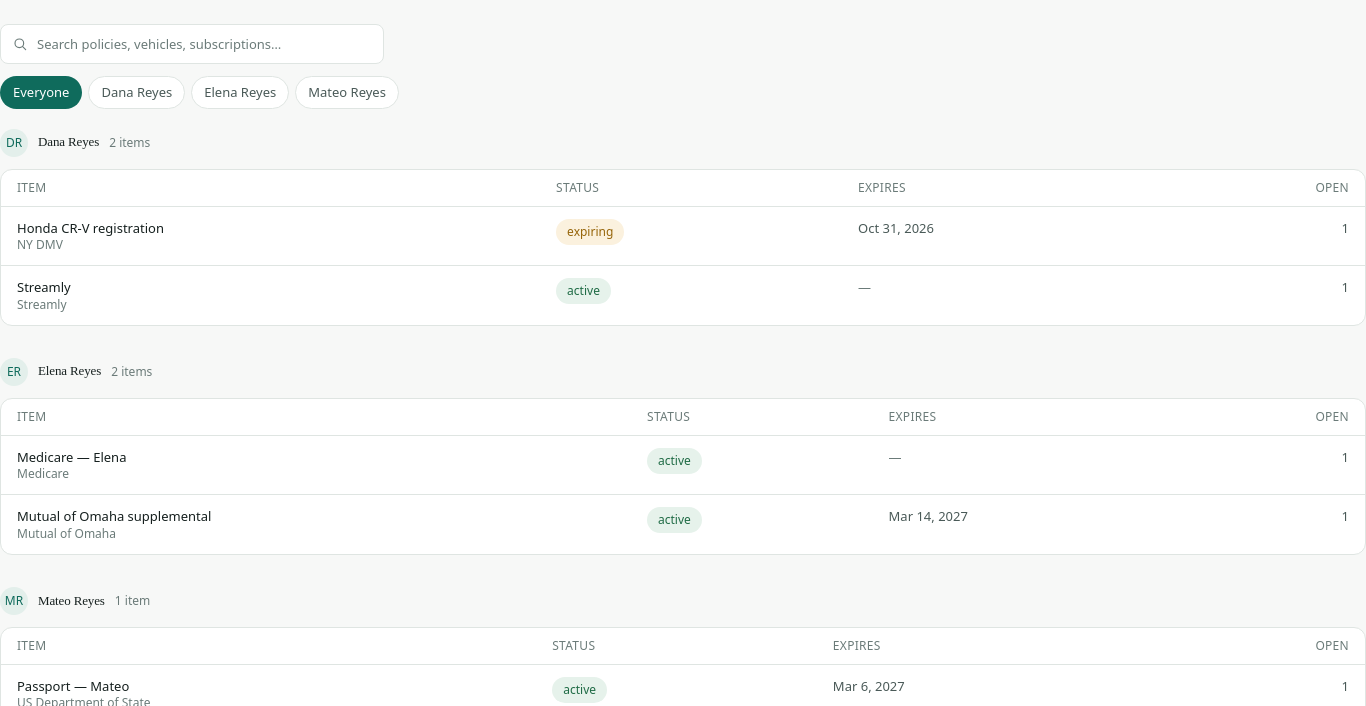
Test: P0-10 Test A · no present-tense encryption claim › does not claim the value is currently stored encrypted
What coordinates should you click on to do the following:
click the text "Passport — Mateo"
I would click on:
 (73, 686)
Its box is 17,677 -> 129,695.
(page scrolled)
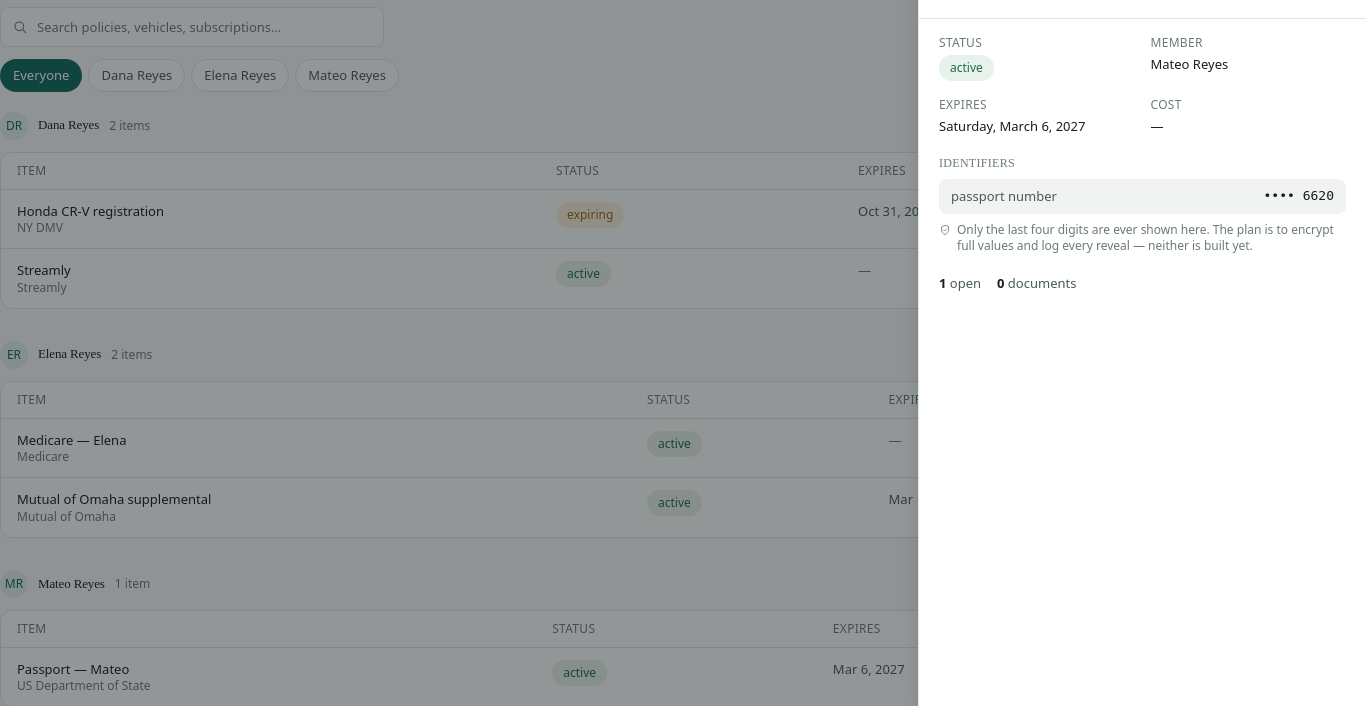
Expected: the heading "Identifiers" is shown, 939,156 -> 1015,170
